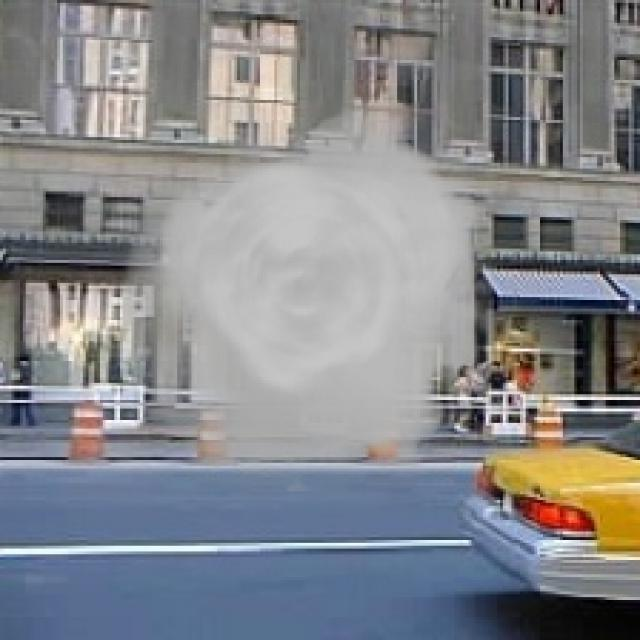Smoke: (120, 94, 494, 492)
